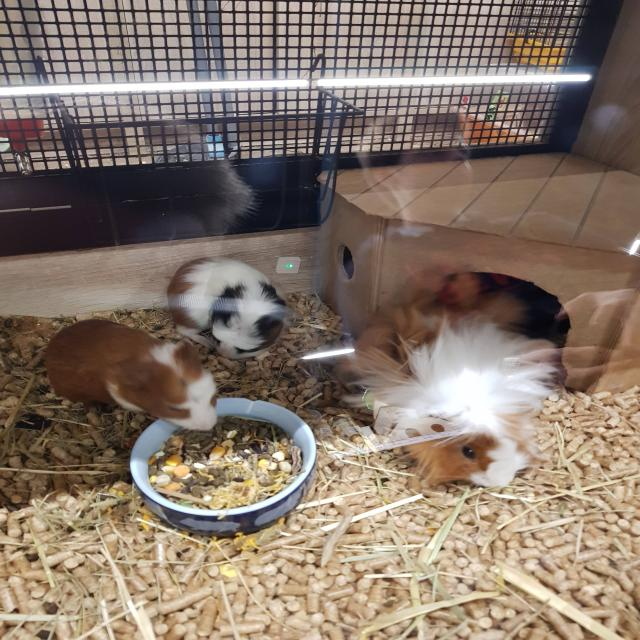guinea pig: (354, 304, 565, 489), (44, 316, 219, 434), (165, 254, 282, 361)
